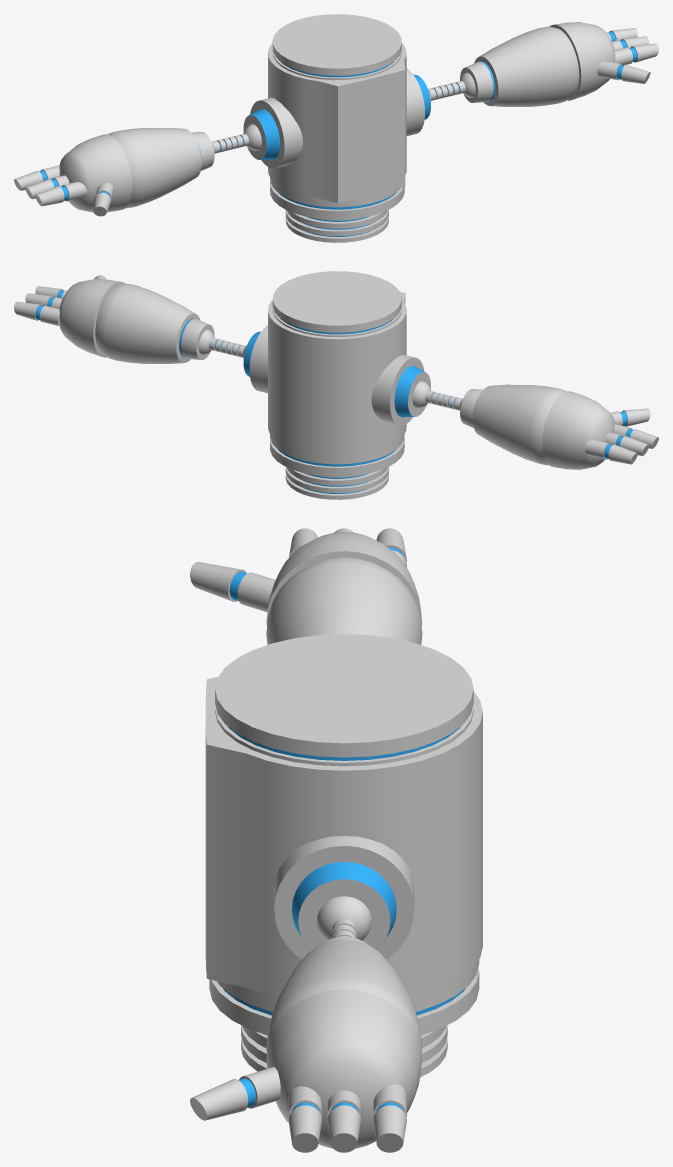
3 renders of one model, top to bottom at view 1: azimuth 30°, elevation 25°; view 2: azimuth 150°, elevation 25°; view 3: azimuth 270°, elevation 25°, orthographic. The views are drawn at different scales.
Parts seen in each view (by area): view 1: arms, body; view 2: arms, body; view 3: body, arms.
Part boxes in pixels (x1,y1,x2,y2): arms: (14, 22, 658, 216); body: (268, 14, 406, 242); arms: (14, 275, 658, 469); body: (268, 271, 406, 499); body: (205, 634, 482, 1077); arms: (190, 528, 422, 1152).
Size of the model in its own units: 20.04 by 5.9 by 4.1.
